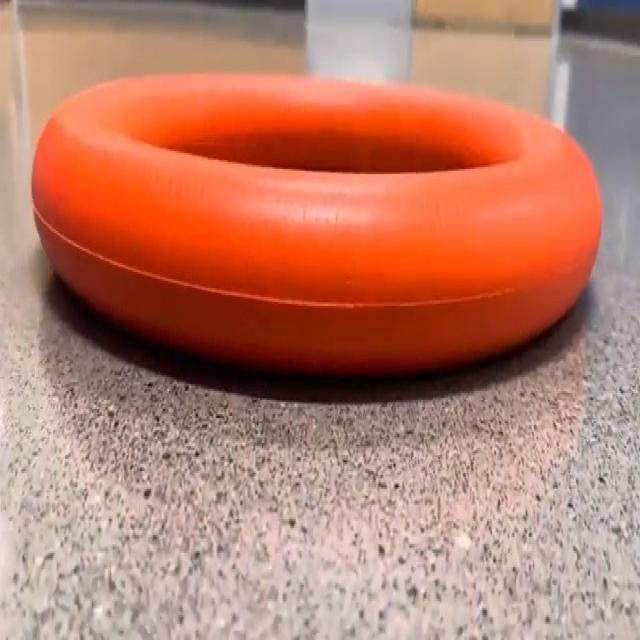note: (31, 76, 601, 373)
